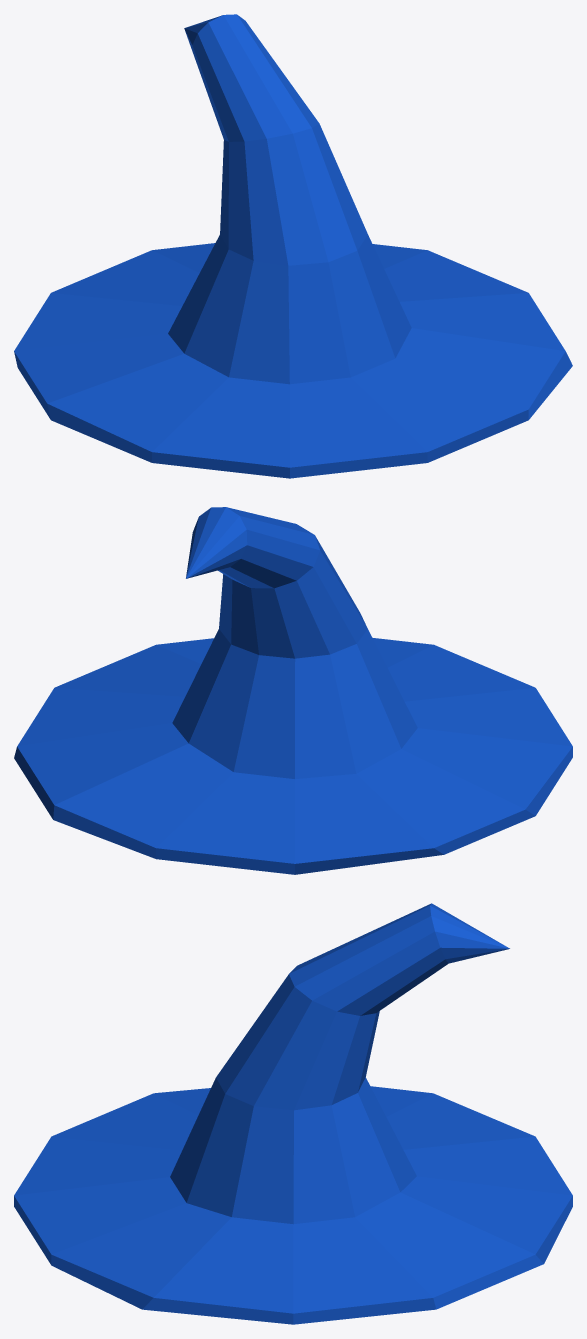
File: witch_hat_2_mat.fbx
The picture shows the model from 3 angles, top to bottom: view 1: azimuth 30°, elevation 25°; view 2: azimuth 150°, elevation 25°; view 3: azimuth 270°, elevation 25°; orthographic projection.
Parts seen in each view (by area): view 1: witch_hat_2_mat; view 2: witch_hat_2_mat; view 3: witch_hat_2_mat.
Part boxes in pixels (x1=…): witch_hat_2_mat: x1=14, y1=14, x2=572, y2=478; witch_hat_2_mat: x1=14, y1=507, x2=572, y2=874; witch_hat_2_mat: x1=14, y1=903, x2=572, y2=1324.
Bounding box in the file's own units: 265 × 157 × 265.
